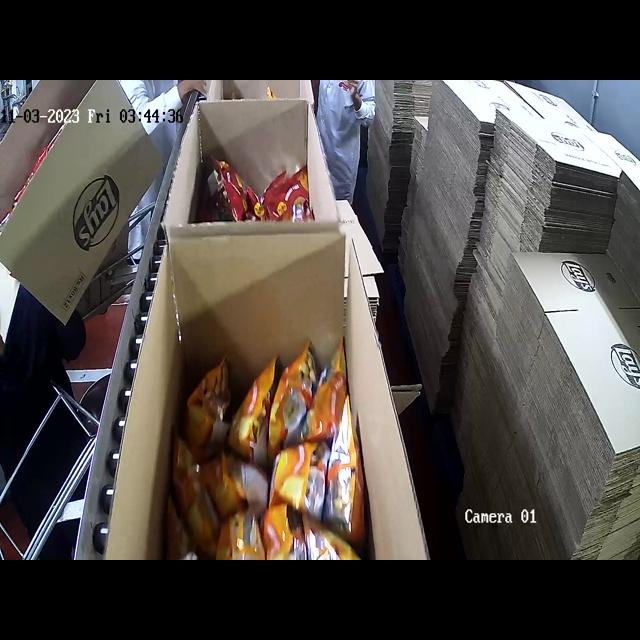cheese: (176, 326, 366, 541)
masala: (201, 147, 310, 245)
